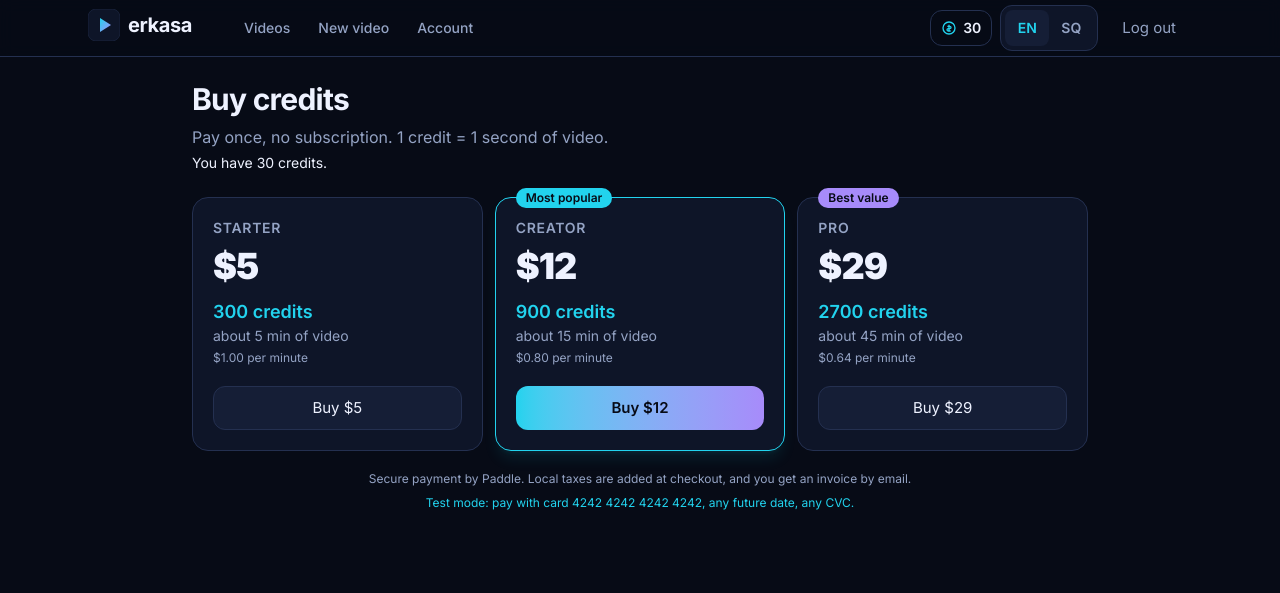
Scenario: buy credits › opens the Paddle checkout for this account and waits for the credits
This screenshot has width=1280, height=593.
Click the button "Buy $12": (640, 408) x1=516 y1=386 x2=764 y2=430
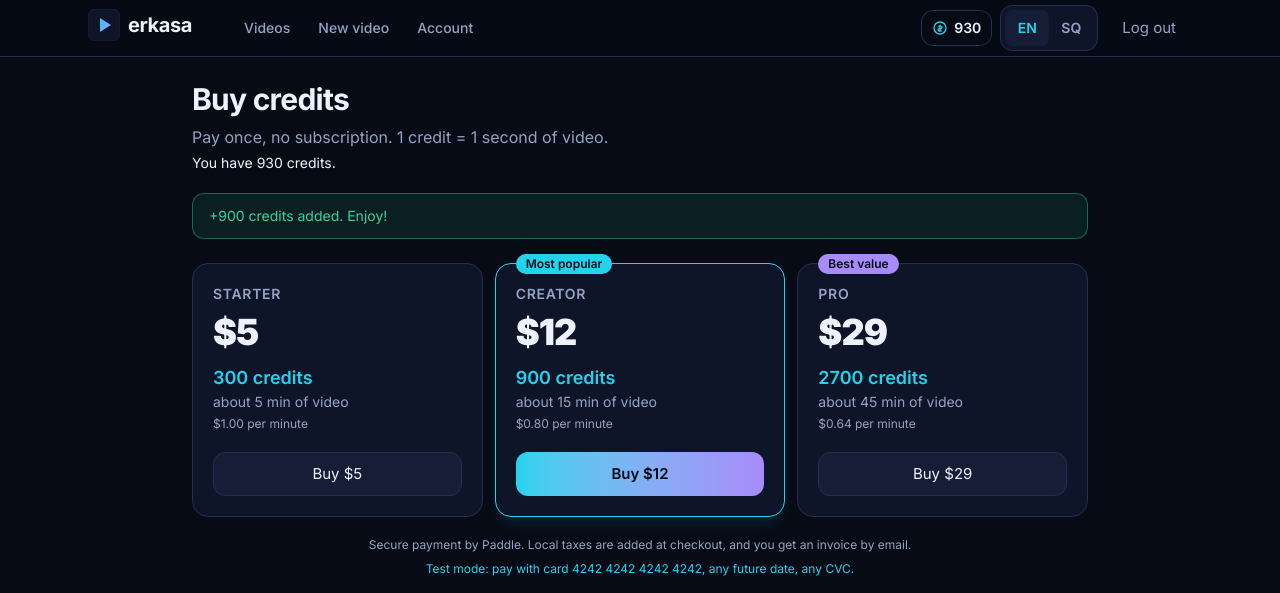
Check: the text "+900 credits added. Enjoy!" is shown, box x1=192 y1=193 x2=1088 y2=239
